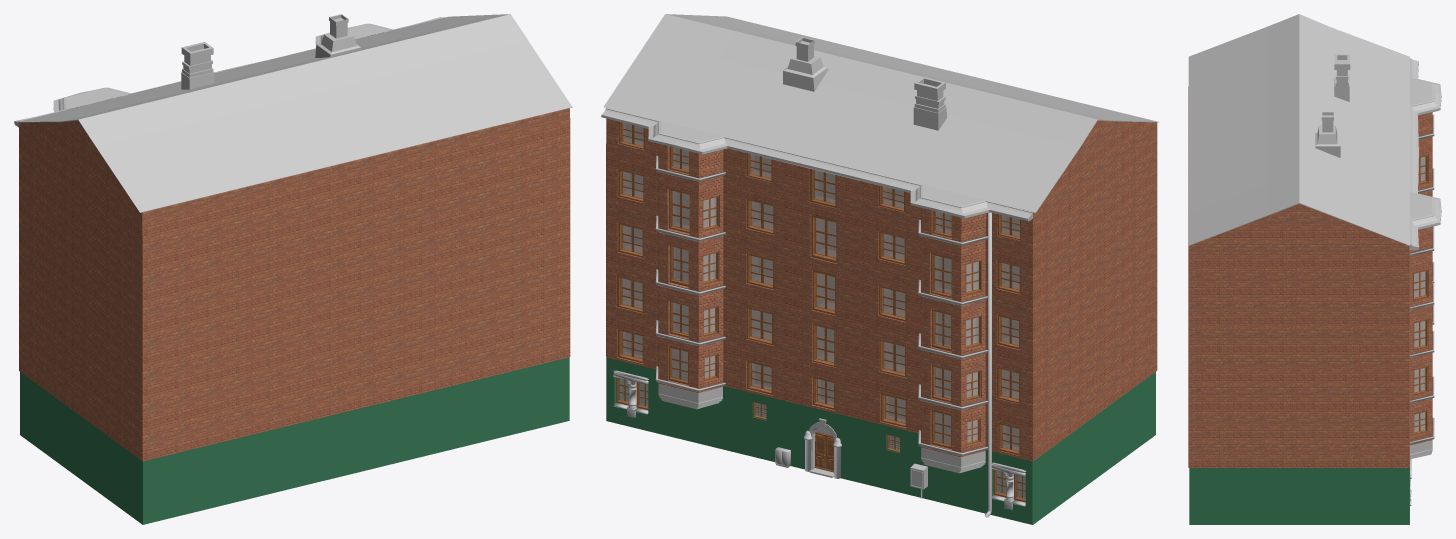
File: Apartment5.fbx
The picture shows the model from 3 angles, left to right: view 1: azimuth 30°, elevation 25°; view 2: azimuth 150°, elevation 25°; view 3: azimuth 270°, elevation 25°; orthographic projection. The views are drawn at different scales.
Visible parts, largest first — view 1: Apartment5, FullHouse.153, Apartment5.003, Apartment5.007, Apartment5.005, Apartment5.008, Apartment5.004, Apartment5.006, Apartment5.009, 5th_L_C.014; view 2: Apartment5, FullHouse.153, Apartment5.003, Apartment5.007, Apartment5.005, Apartment5.012, 5th_L_C.014, Apartment5.008, Apartment5.009, Apartment5.004, Apartment5.006, Apartment5.011 (+33 smaller); view 3: Apartment5, FullHouse.153, Apartment5.009, 5th_L_C.014, Apartment5.012, FullHouse.335, FullHouse.336, FullHouse.339, Apartment5.011, FullHouse.303, FullHouse.340.
Part boxes in pixels (left/top/right/bottom): Apartment5: left=19, top=32, right=570, bottom=461; FullHouse.153: left=14, top=14, right=572, bottom=212; Apartment5.003: left=20, top=372, right=190, bottom=524; Apartment5.007: left=382, top=386, right=452, bottom=466; Apartment5.005: left=254, top=417, right=323, bottom=497; Apartment5.008: left=452, top=370, right=517, bottom=449; Apartment5.004: left=190, top=434, right=254, bottom=513; Apartment5.006: left=323, top=403, right=382, bottom=480; Apartment5.009: left=517, top=357, right=569, bottom=433; 5th_L_C.014: left=181, top=14, right=360, bottom=89; Apartment5: left=606, top=107, right=1157, bottom=461; FullHouse.153: left=601, top=14, right=1159, bottom=221; Apartment5.003: left=985, top=372, right=1155, bottom=524; Apartment5.007: left=723, top=386, right=792, bottom=466; Apartment5.005: left=851, top=417, right=921, bottom=497; Apartment5.012: left=655, top=155, right=987, bottom=456; 5th_L_C.014: left=783, top=37, right=946, bottom=130; Apartment5.008: left=659, top=386, right=723, bottom=449; Apartment5.009: left=606, top=357, right=658, bottom=433; Apartment5.004: left=921, top=450, right=985, bottom=513; Apartment5.006: left=792, top=403, right=851, bottom=480; Apartment5.011: left=658, top=383, right=985, bottom=473; Apartment5: left=1188, top=87, right=1432, bottom=467; FullHouse.153: left=1188, top=14, right=1441, bottom=250; Apartment5.009: left=1189, top=468, right=1409, bottom=524; 5th_L_C.014: left=1315, top=54, right=1350, bottom=157; Apartment5.012: left=1410, top=114, right=1434, bottom=444; FullHouse.335: left=1413, top=269, right=1428, bottom=301; FullHouse.336: left=1413, top=319, right=1427, bottom=350; FullHouse.339: left=1413, top=366, right=1427, bottom=395; Apartment5.011: left=1410, top=440, right=1432, bottom=459; FullHouse.303: left=1418, top=154, right=1428, bottom=185; FullHouse.340: left=1414, top=410, right=1427, bottom=435.
Bounding box in the file's own units: 28.35 × 24.03 × 16.06.
